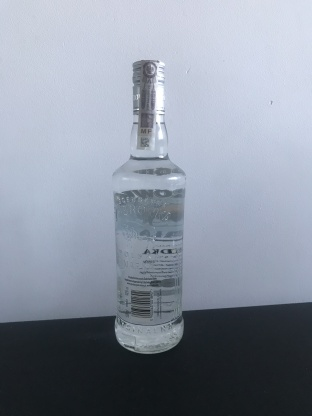nakretka: (129, 55, 167, 118)
